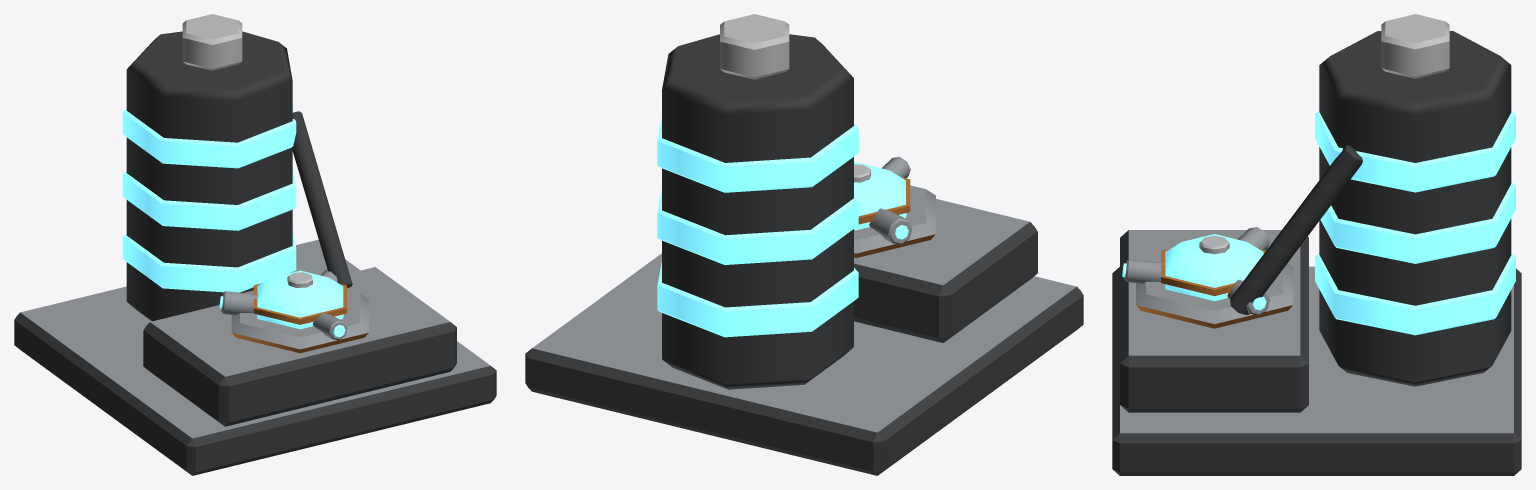
The model's file is R4X_SlowTrapDeployer_LOD1.fbx.
The picture shows the model from 3 angles, left to right: view 1: azimuth 30°, elevation 25°; view 2: azimuth 150°, elevation 25°; view 3: azimuth 270°, elevation 25°; orthographic projection. The views are drawn at different scales.
Parts seen in each view (by area): view 1: R4X_SlowTrapDeployer_LOD1; view 2: R4X_SlowTrapDeployer_LOD1; view 3: R4X_SlowTrapDeployer_LOD1.
Part boxes in pixels (x1=…): R4X_SlowTrapDeployer_LOD1: x1=14, y1=14, x2=496, y2=475; R4X_SlowTrapDeployer_LOD1: x1=525, y1=14, x2=1083, y2=475; R4X_SlowTrapDeployer_LOD1: x1=1112, y1=14, x2=1521, y2=475.
Size of the model in its own units: 0.52 by 0.51 by 0.52.
